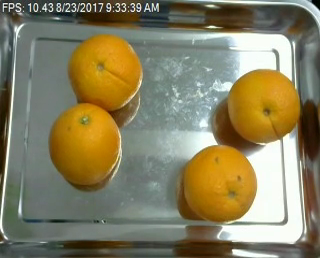Orange: (47, 104, 120, 186), (181, 143, 256, 221), (68, 34, 143, 109), (227, 70, 301, 143)
